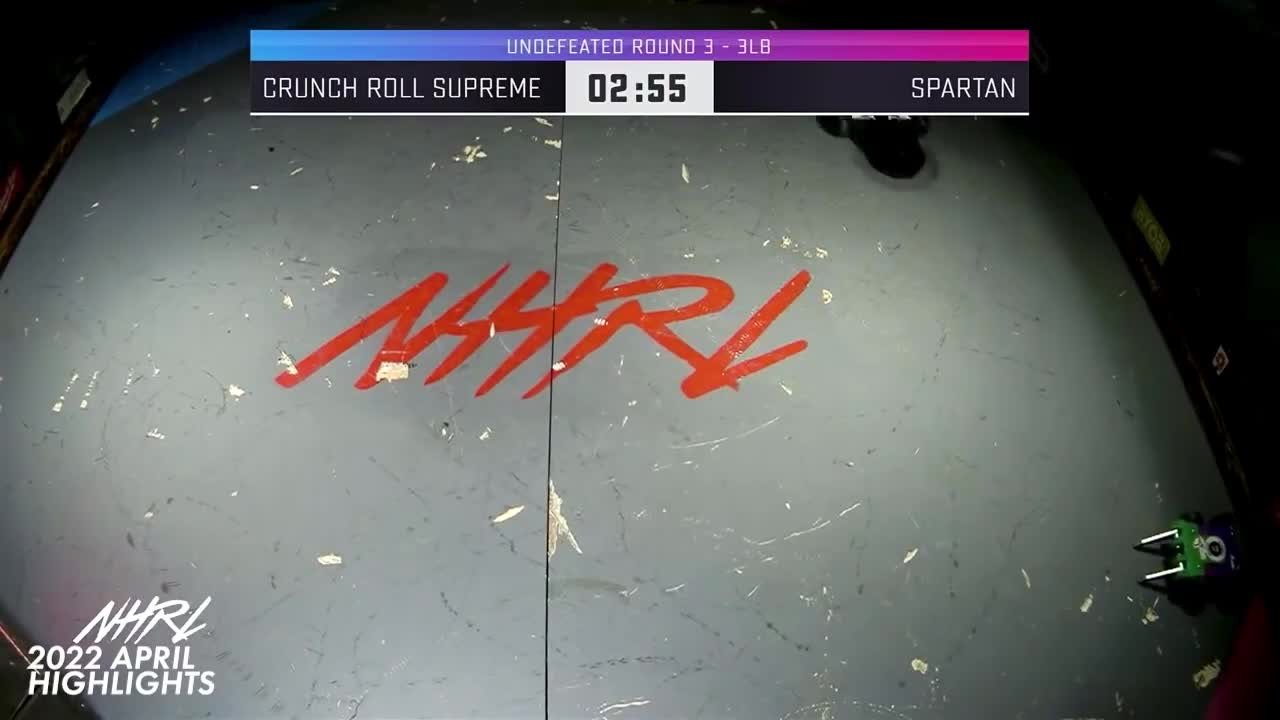combatbot: (1136, 508, 1244, 611), (813, 117, 940, 181)
